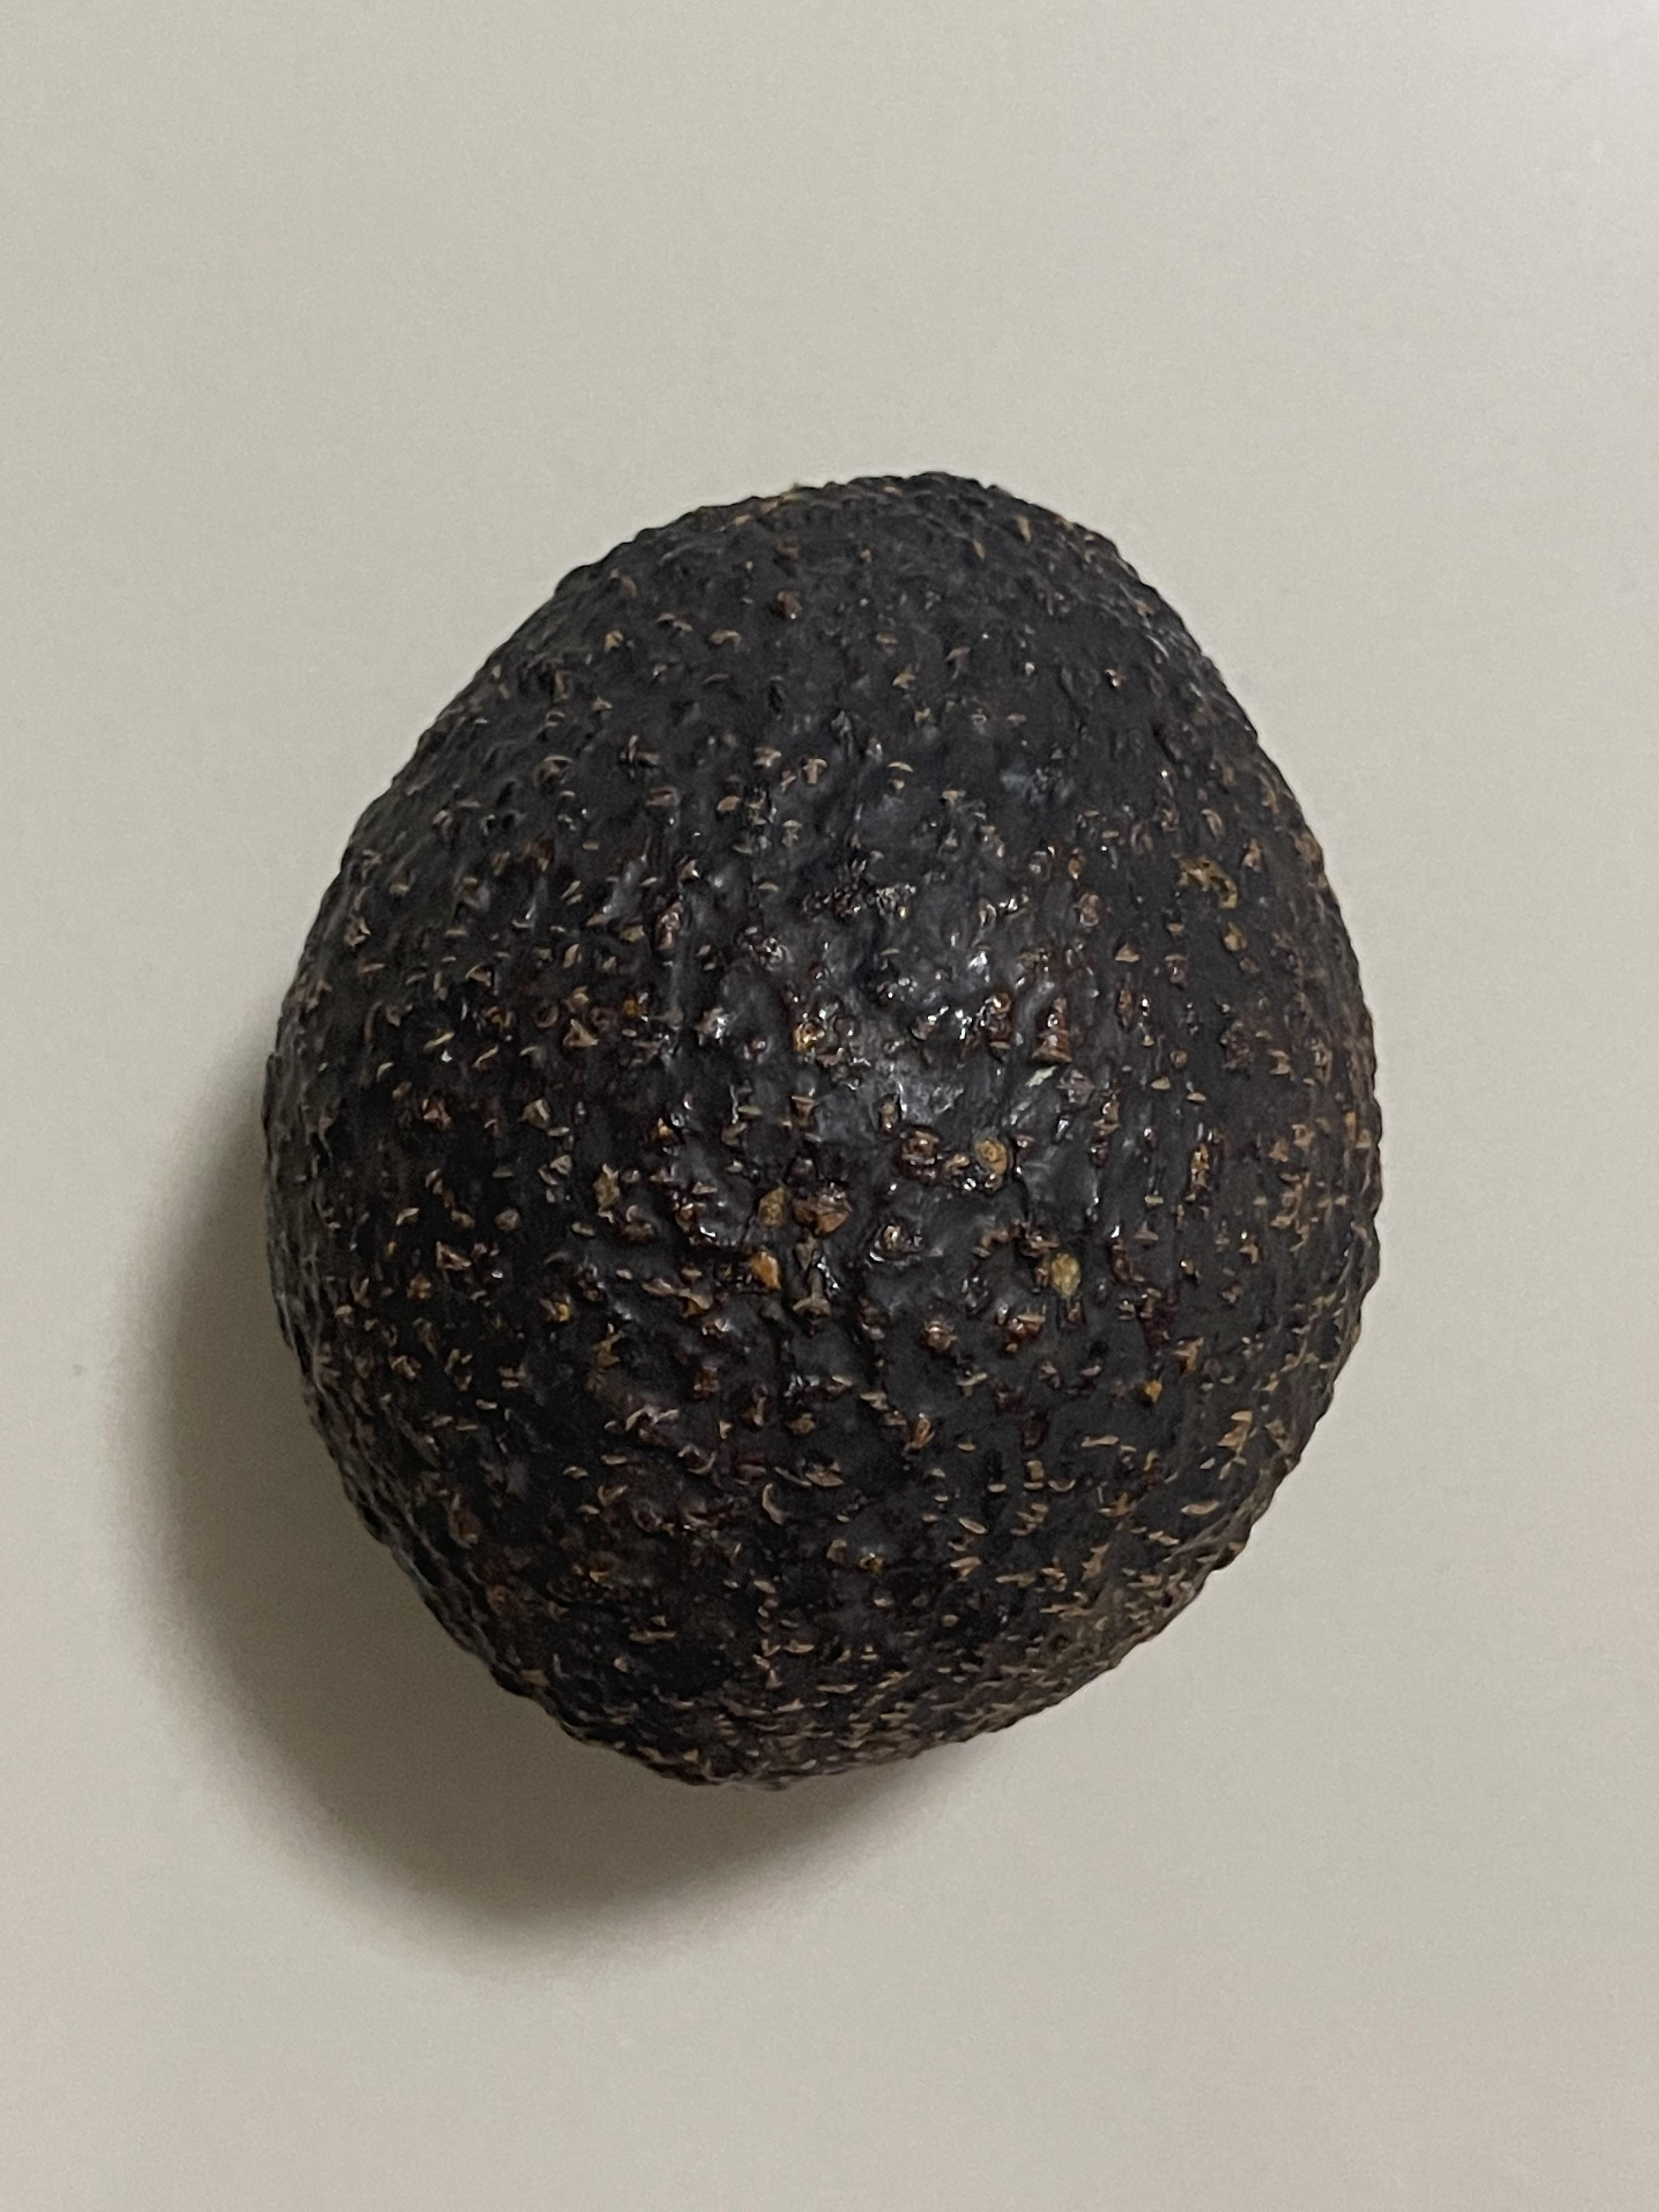Level3: (235, 439, 1401, 1817)
